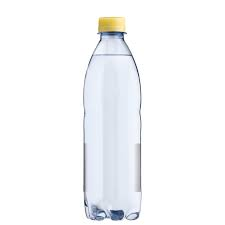bottle: (79, 14, 146, 223)
